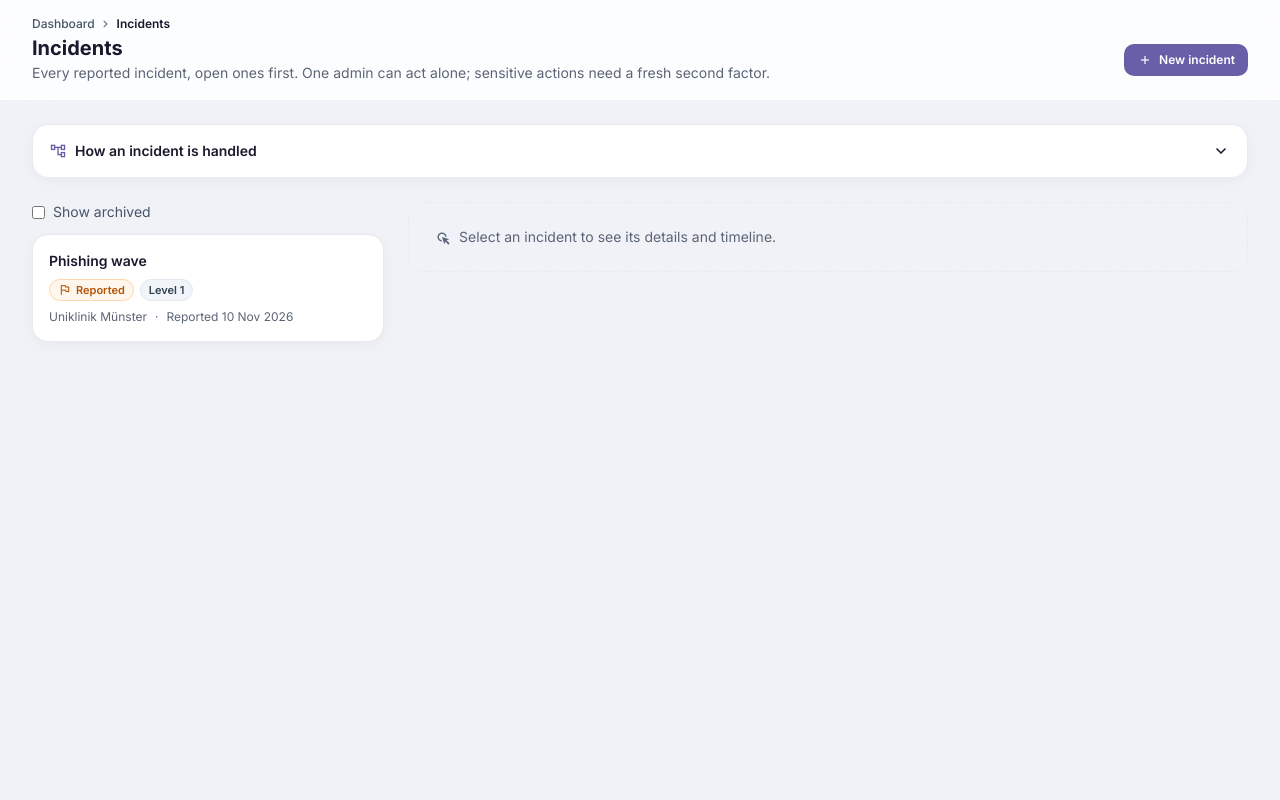
AdminIncidentsPage › records a new incident through the report dialog
Click the button "New incident" at (1186, 60), box [1124,44,1248,76]
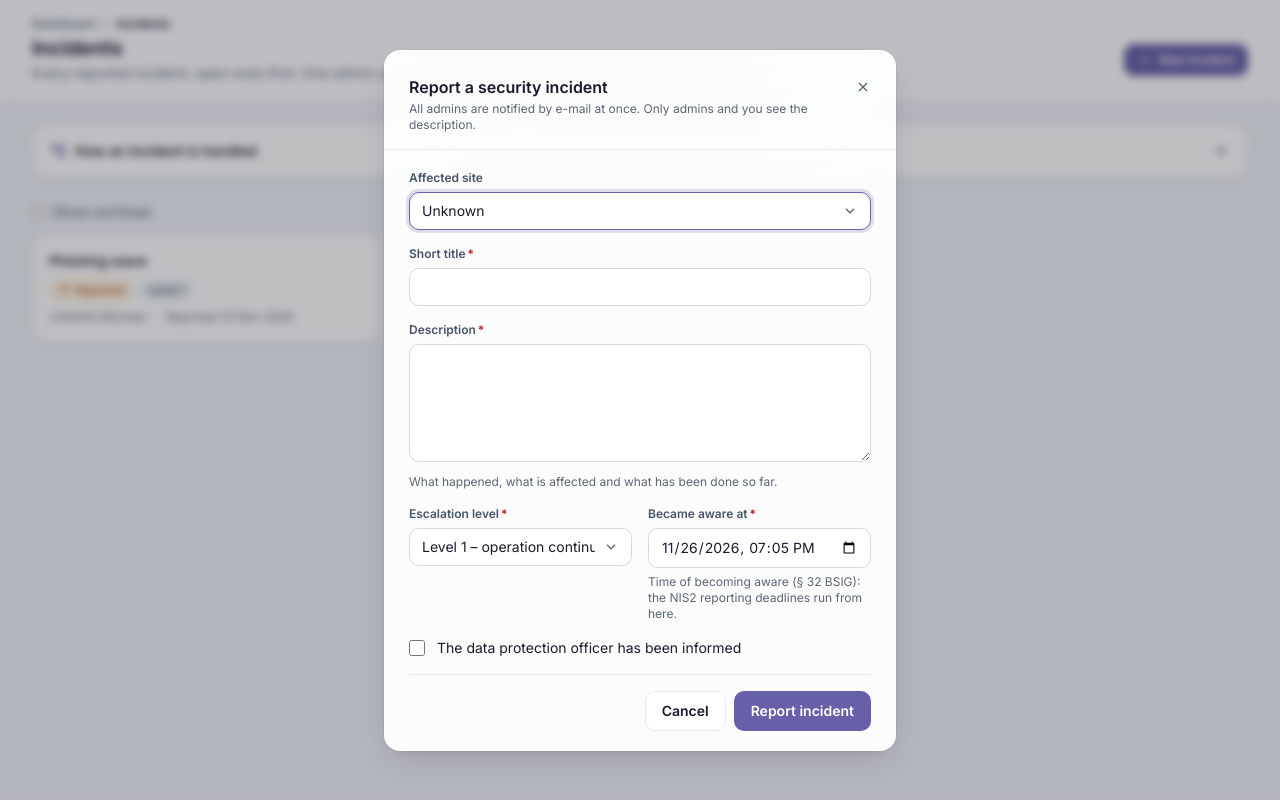
Expected: the heading "Report a security incident" is shown, [409,76,608,96]
